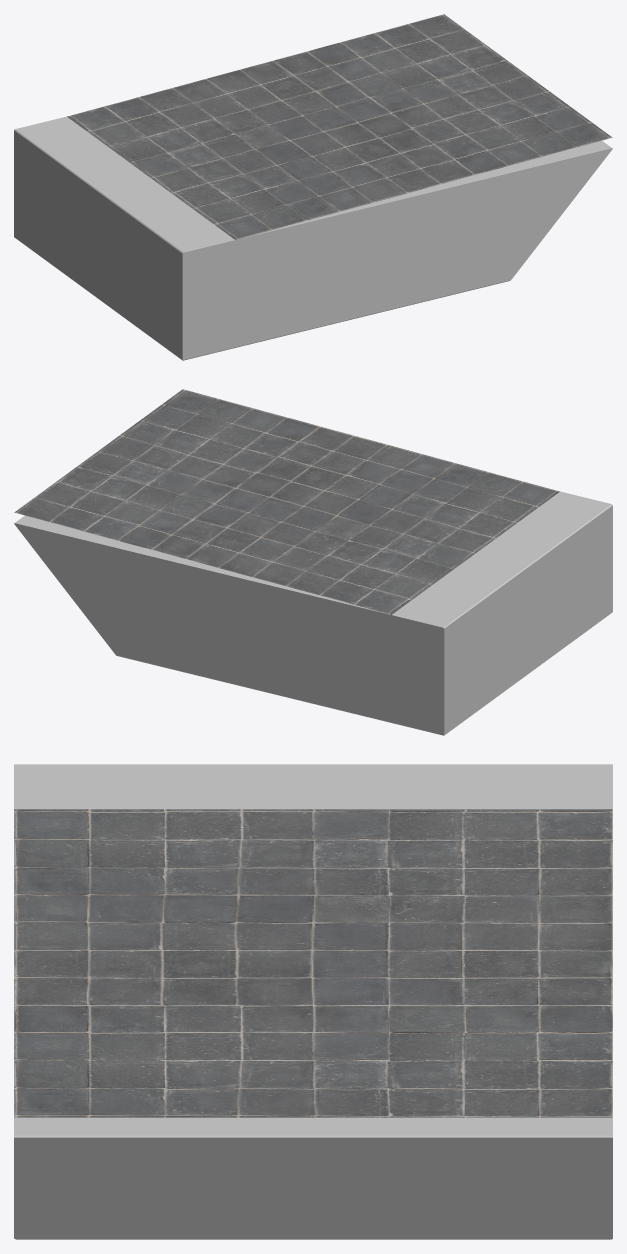
The model's file is SM_DG_HG_Floor02A.fbx.
3 renders of one model, top to bottom at view 1: azimuth 30°, elevation 25°; view 2: azimuth 150°, elevation 25°; view 3: azimuth 270°, elevation 25°, orthographic. The views are drawn at different scales.
Visible parts, largest first — view 1: SM_DG_HG_Floor02A_ConvexHulls, SM_DG_HG_Floor02A; view 2: SM_DG_HG_Floor02A_ConvexHulls, SM_DG_HG_Floor02A; view 3: SM_DG_HG_Floor02A, SM_DG_HG_Floor02A_ConvexHulls.
Boxes of the visible parts, box(x1,y1,x2,y2) form: SM_DG_HG_Floor02A_ConvexHulls: box(14, 116, 612, 360); SM_DG_HG_Floor02A: box(67, 14, 612, 239); SM_DG_HG_Floor02A_ConvexHulls: box(14, 491, 612, 735); SM_DG_HG_Floor02A: box(14, 389, 559, 614); SM_DG_HG_Floor02A: box(14, 809, 612, 1117); SM_DG_HG_Floor02A_ConvexHulls: box(14, 764, 612, 1239).
Bounding box in the file's own units: 364 × 247 × 95.91.
3 materials, 2 textured.
